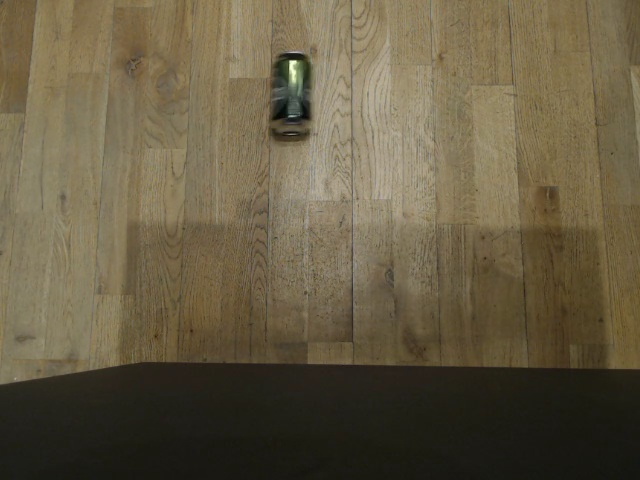beer: (263, 47, 318, 144)
